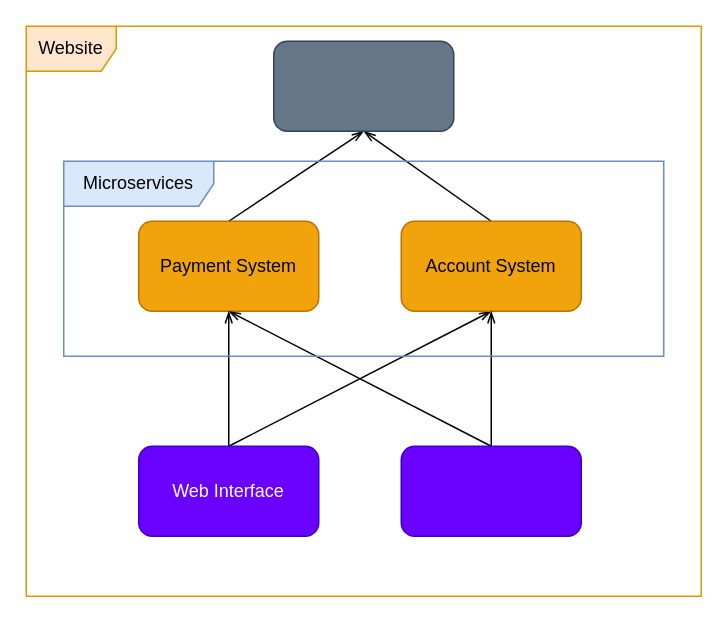
Some shapes in this 728 by 623 pixel diagram are drawn without their labels. Here are the shapes that lost their labels. From the top down, the box of each, then its label:
(272, 40, 454, 131): Database
(400, 445, 581, 536): Mobile Interface
